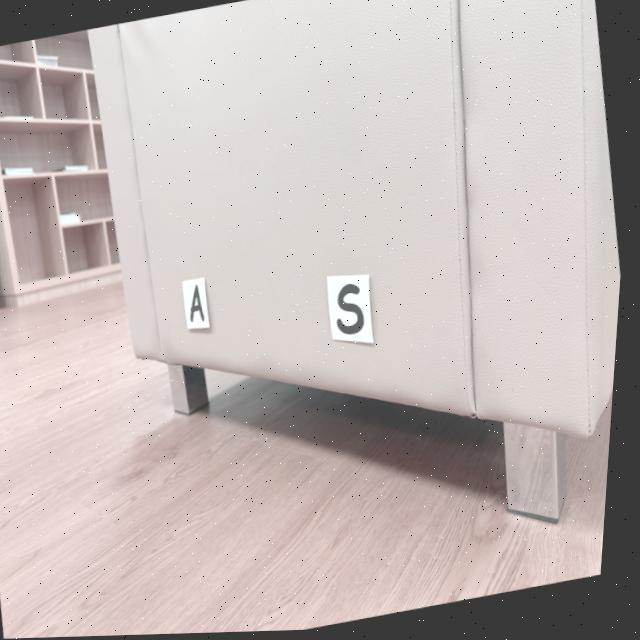A: (194, 286, 209, 324)
S: (341, 286, 369, 337)
